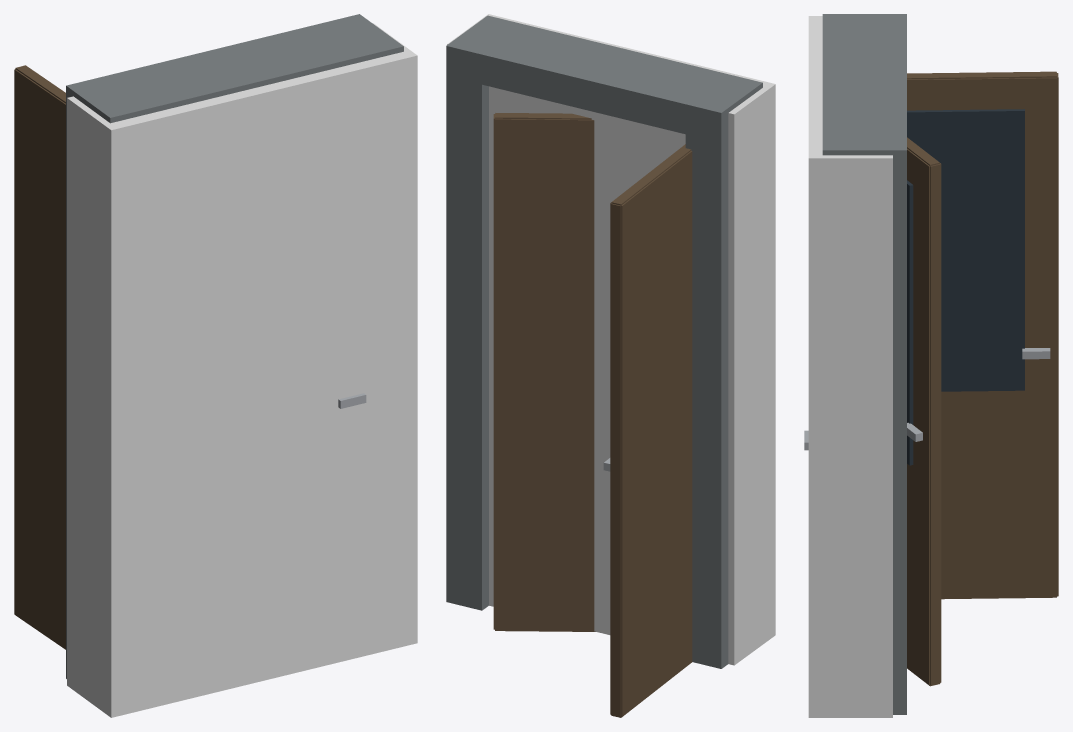
Rendered from balcony_door.glb.
3 views of the same model, side by side, from view 1: azimuth 30°, elevation 25°; view 2: azimuth 150°, elevation 25°; view 3: azimuth 270°, elevation 25° (orthographic). The views are drawn at different scales.
Visible parts, largest first — view 1: balcony_door-col, door_anim_mesh, frame_mesh; view 2: frame_mesh, door_broken_mesh, balcony_door-col, door_anim_mesh, door_open_mesh; view 3: door_open_mesh, balcony_door-col, frame_mesh, door_broken_mesh, door_anim_mesh.
Part boxes in pixels (bbox=[...]): balcony_door-col: bbox=[67, 23, 417, 717]; door_anim_mesh: bbox=[14, 65, 65, 649]; frame_mesh: bbox=[66, 14, 403, 678]; frame_mesh: bbox=[446, 15, 762, 668]; door_broken_mesh: bbox=[493, 113, 595, 631]; balcony_door-col: bbox=[447, 14, 775, 665]; door_anim_mesh: bbox=[603, 144, 692, 717]; door_open_mesh: bbox=[604, 145, 689, 717]; door_open_mesh: bbox=[907, 72, 1058, 599]; balcony_door-col: bbox=[808, 16, 892, 717]; frame_mesh: bbox=[822, 14, 906, 714]; door_broken_mesh: bbox=[907, 137, 941, 686]; door_anim_mesh: bbox=[907, 71, 1058, 598].
Size of the model in its own units: 1.2 by 2.23 by 0.9052.
